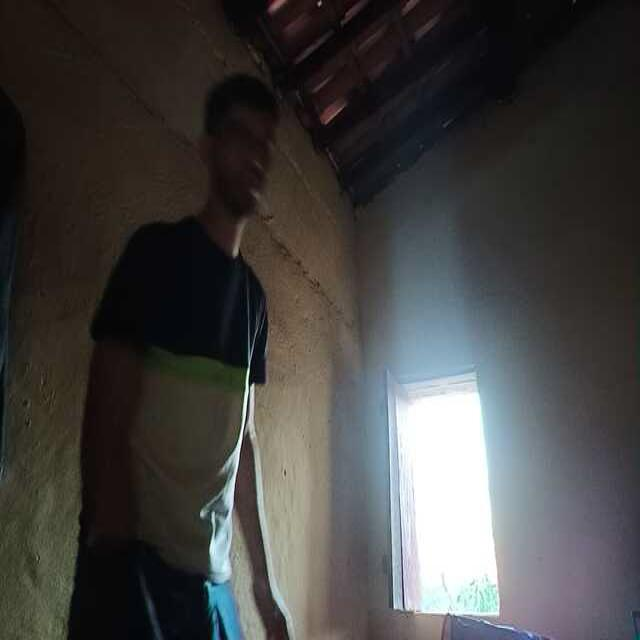colete: (440, 611, 538, 640)
pessoa: (86, 84, 286, 640)
